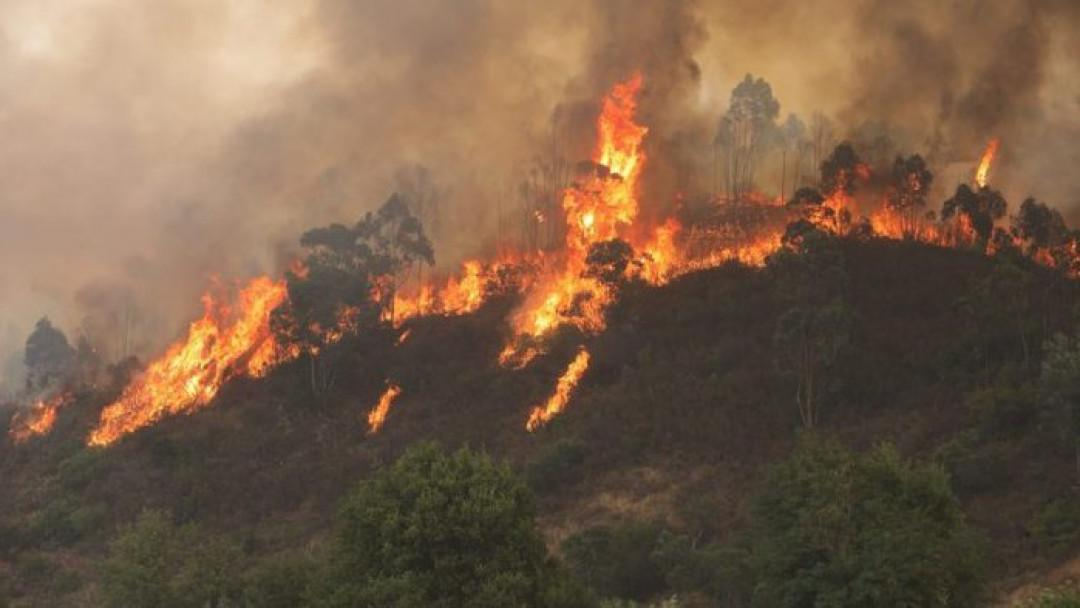Fire: (83, 77, 1071, 444), (528, 354, 593, 431), (10, 395, 62, 439), (367, 386, 402, 435), (973, 138, 1006, 189)
